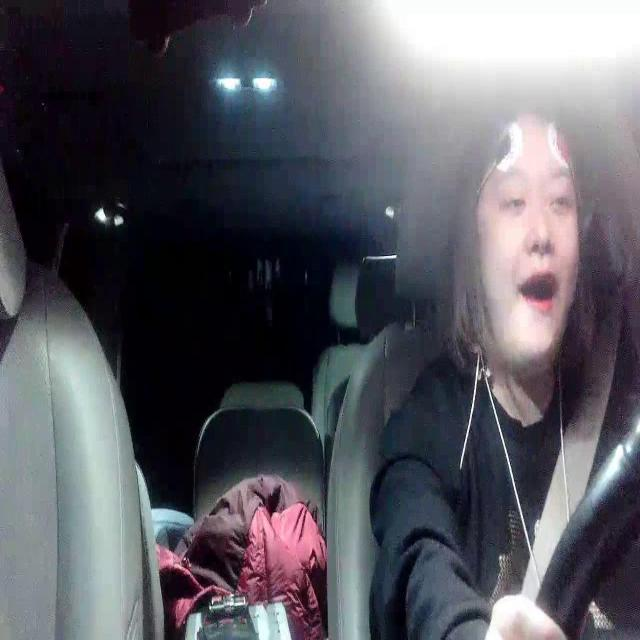Attentive: (443, 95, 598, 373)
Yawning: (520, 269, 567, 311)
